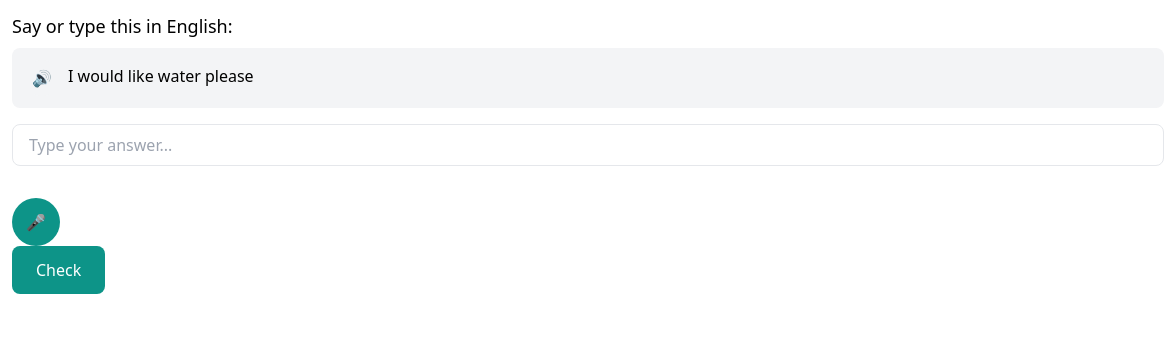
Test: StepRenderer › production_speaking step › partial overlap blocks Continue and only offers Try again
Step 1. Type "water please" into the field with placeholder "Type your answer..." → x=588, y=145, box [12,124,1164,166]
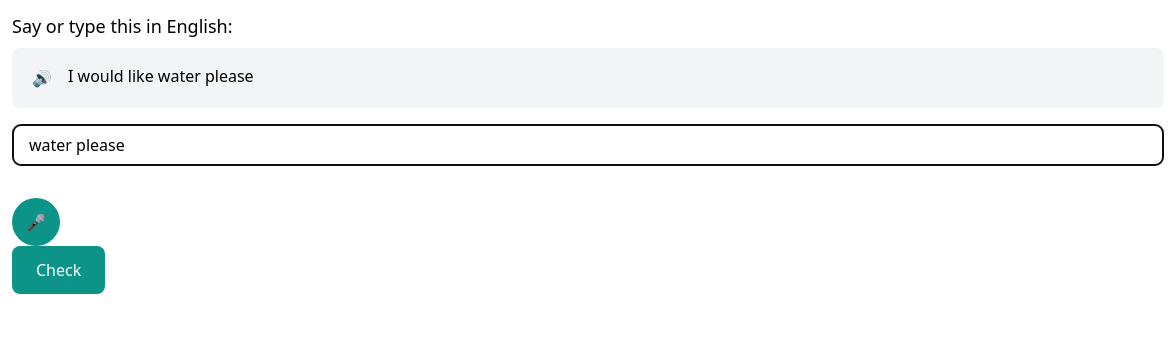
Step 2. Click the button "Check" → x=59, y=270, box [12,246,105,294]
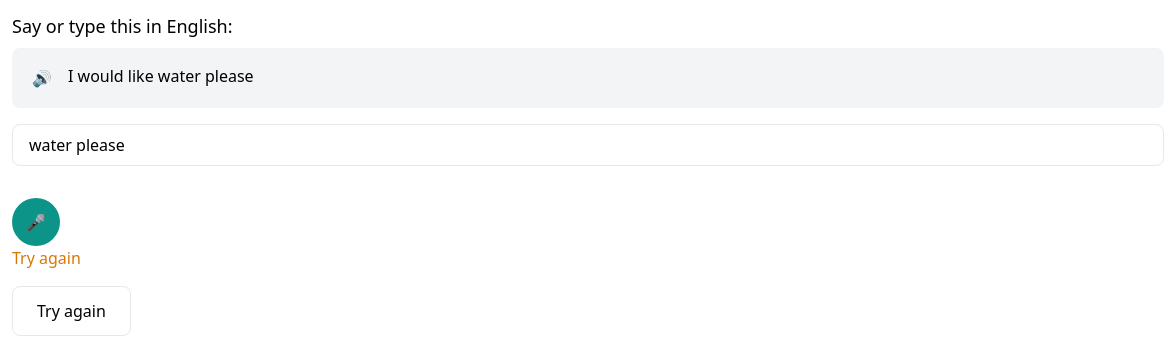
Expected: the text "Try again" is shown, [12,247,81,269]
